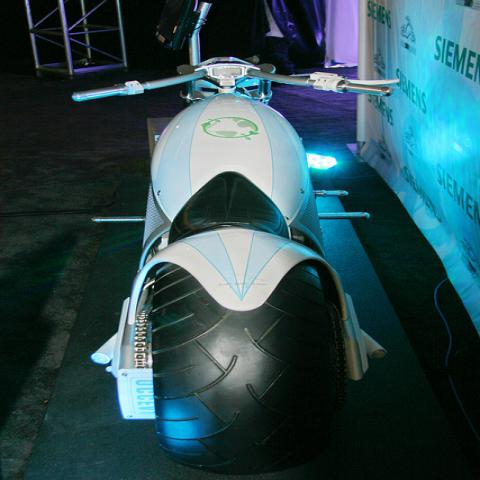motorcycle: (63, 63, 407, 474)
